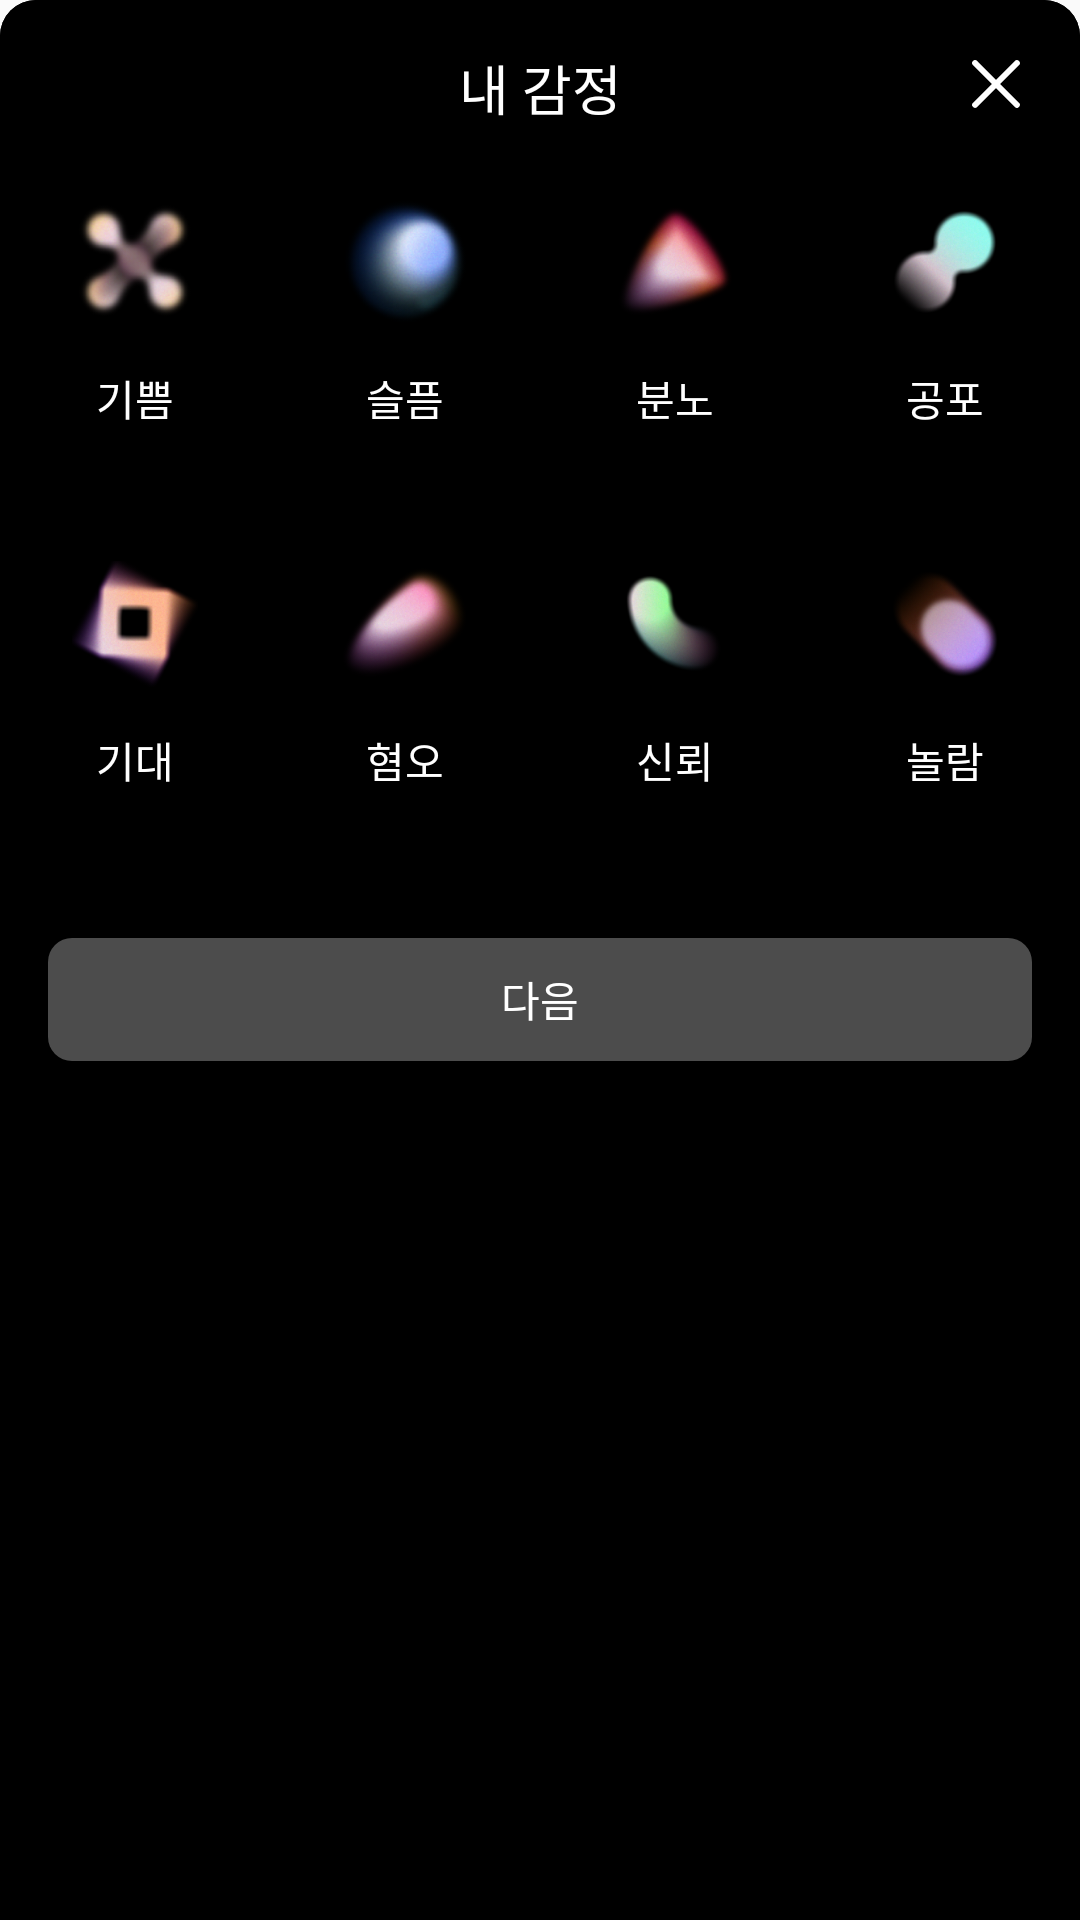

Point at icon controls on the screen. Image size 1080x1920, points as point (x, y).
close: point (996, 84)
